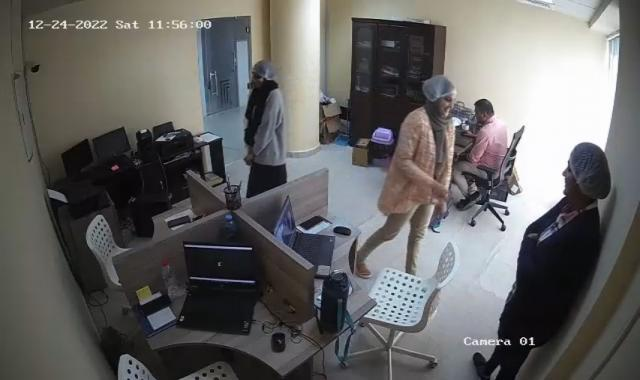hairnet: (558, 141, 611, 202), (424, 75, 454, 121), (251, 61, 274, 92)
no_hairnet: (473, 98, 495, 124)
